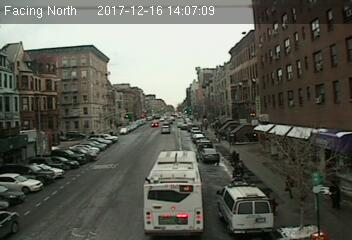bus: (142, 151, 204, 236)
car: (201, 148, 219, 160)
police: (214, 181, 275, 234)
